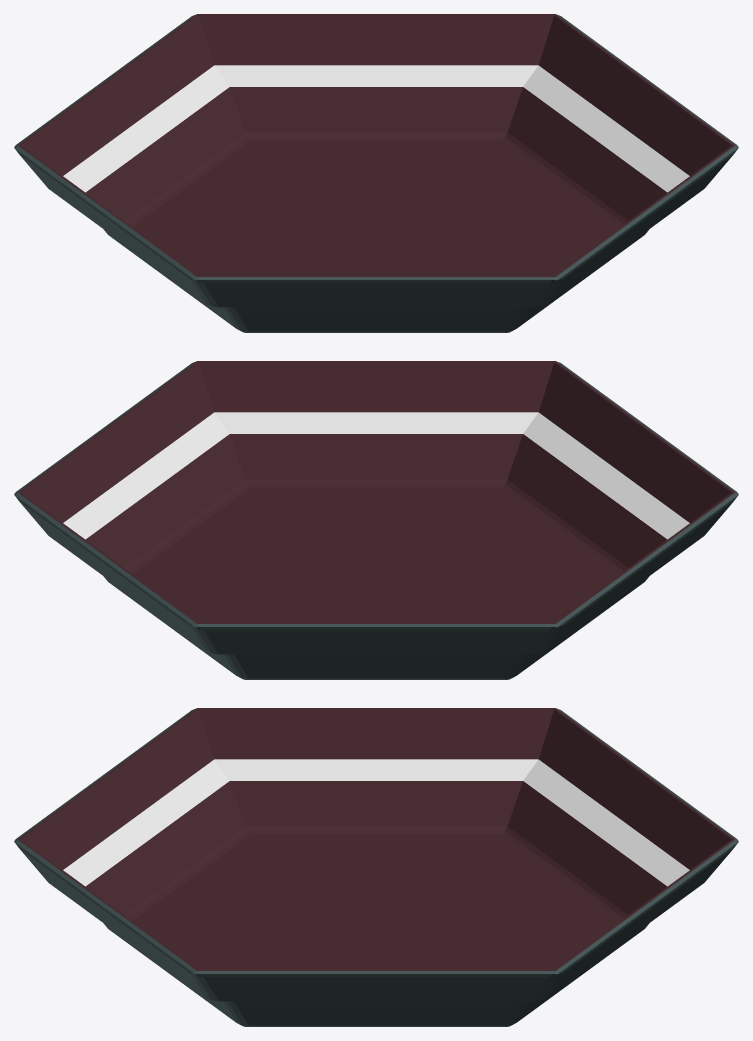
File: Box6Eags.fbx
The picture shows the model from 3 angles, top to bottom: view 1: azimuth 30°, elevation 25°; view 2: azimuth 150°, elevation 25°; view 3: azimuth 270°, elevation 25°; orthographic projection.
Parts seen in each view (by area): view 1: Circle; view 2: Circle; view 3: Circle.
Part boxes in pixels (<box>): Circle: <box>14,14,738,332</box>; Circle: <box>14,361,738,679</box>; Circle: <box>14,708,738,1026</box>.
Size of the model in its own units: 236 by 37.99 by 272.
